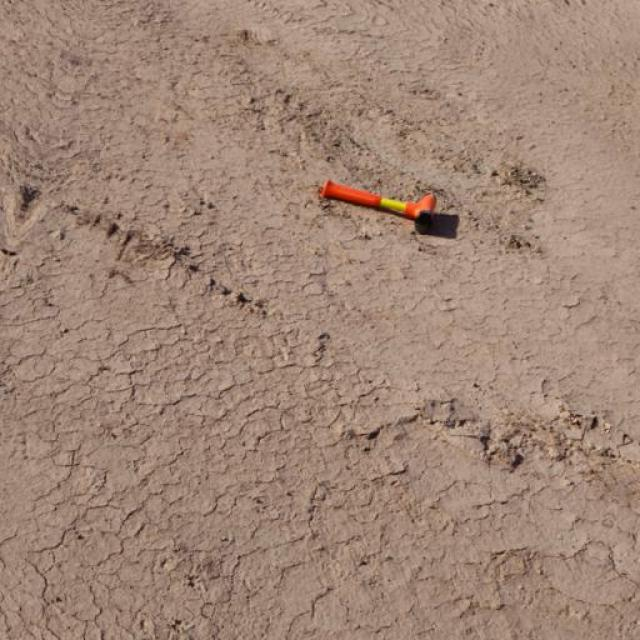mallet: (318, 178, 437, 228)
